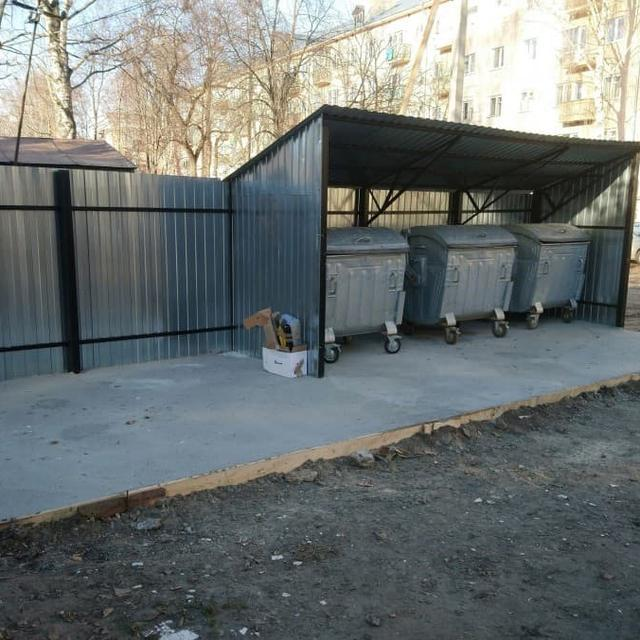Trash_Can_Closed: (404, 224, 519, 326), (327, 226, 408, 336), (508, 222, 592, 312)
